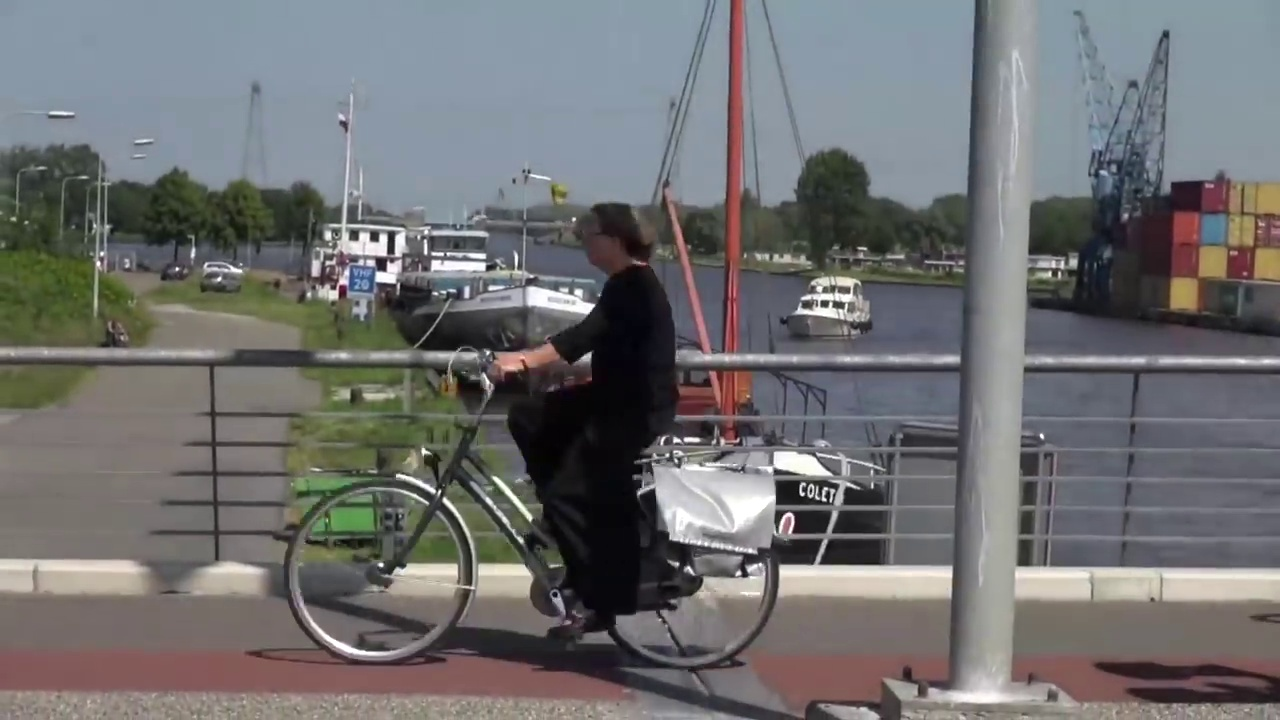cyclist_side: (274, 181, 793, 679)
